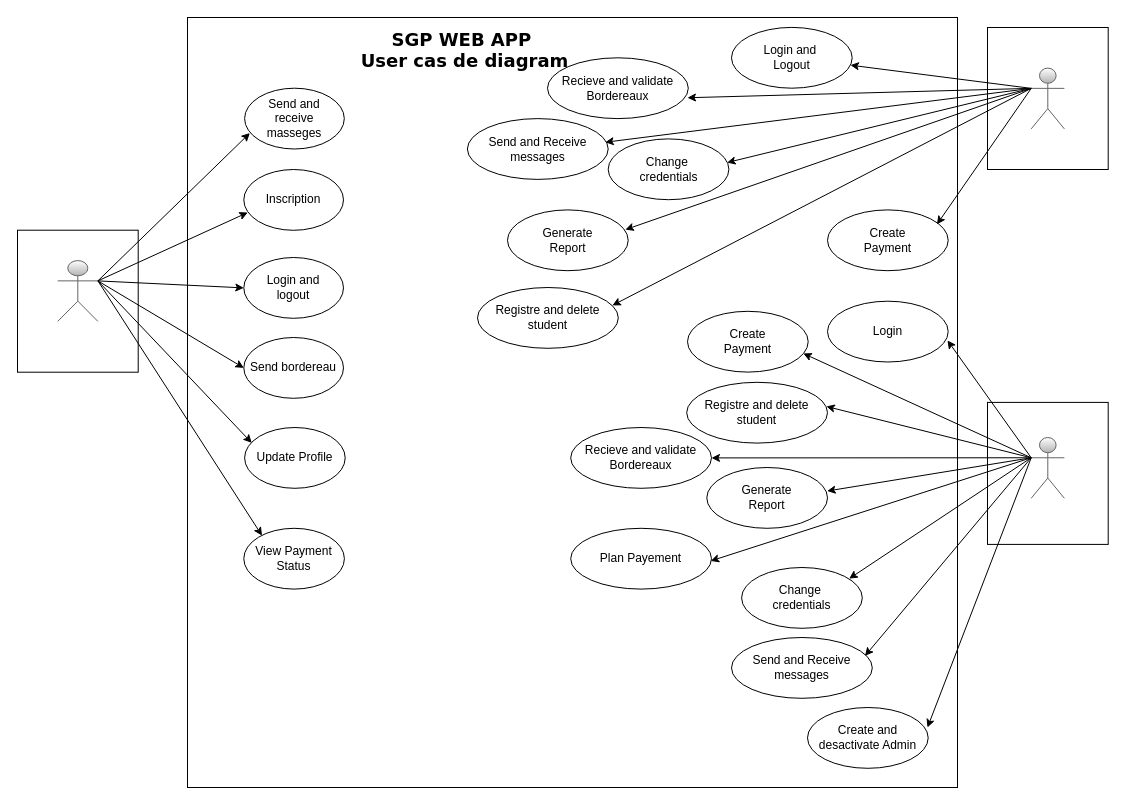
The diagram is 1126 pixels wide and 805 high, and some of its shapes have lost their labels. Each missing label, with the centre of its shape:
"Admin" goes at pixel 1047 98.
"Etudiant" goes at pixel 77 290.
"SuperAdmin" goes at pixel 1047 467.
